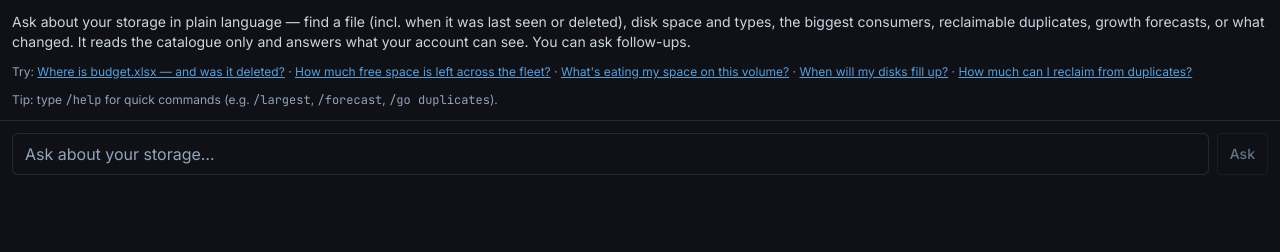
Test case: sends a forced tool for a /command (no LLM classify)
The image size is (1280, 252).
Type "/largest" into the field named "your question".
click(610, 154); type("/largest")  # box [12,133,1209,175]
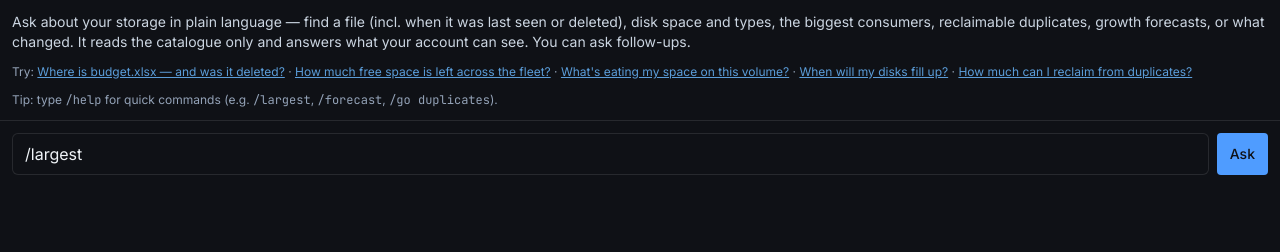
Click the button "Ask".
click(1242, 154)  # box [1217,133,1268,175]
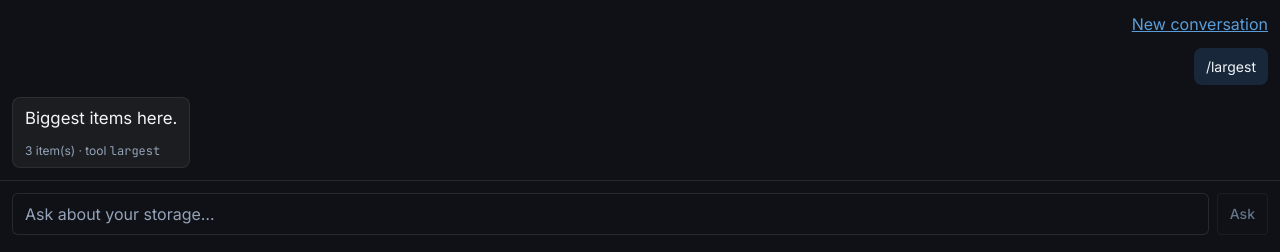
Expected: the text "Biggest items here." is shown, [25,106,177,131]
